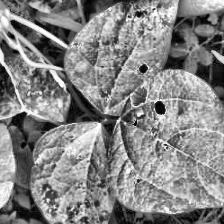ALS: (114, 74, 224, 208), (66, 0, 184, 117), (28, 120, 113, 224), (0, 28, 67, 132)
